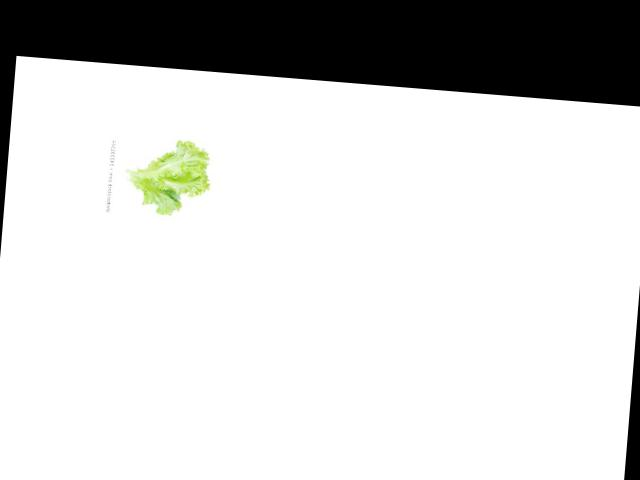lettuce: (116, 135, 215, 221)
